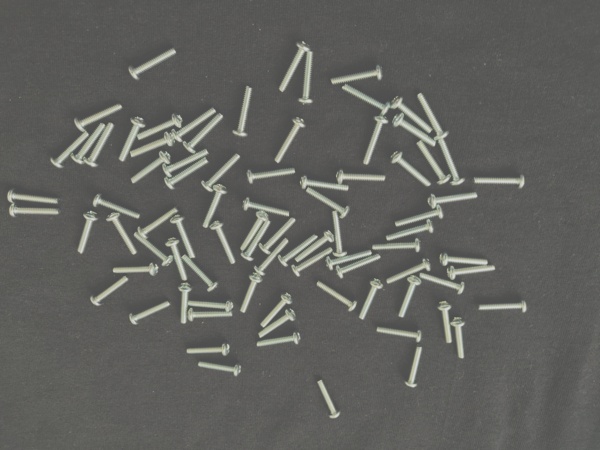longscrew: (278, 40, 312, 93), (183, 112, 225, 154), (390, 94, 434, 134), (128, 46, 178, 81), (171, 106, 218, 143), (416, 92, 450, 141), (200, 153, 241, 193), (390, 150, 433, 188), (340, 84, 391, 116), (416, 140, 452, 185), (391, 112, 437, 147), (50, 131, 91, 170), (273, 117, 307, 164), (164, 157, 210, 191), (83, 122, 117, 168), (181, 254, 220, 293), (305, 187, 351, 220), (71, 123, 106, 166), (437, 136, 467, 186), (74, 102, 124, 132), (258, 217, 297, 255), (253, 237, 290, 277), (133, 231, 174, 267), (130, 149, 172, 184), (278, 233, 319, 268), (361, 115, 389, 166), (137, 111, 184, 141), (106, 212, 138, 256), (294, 229, 335, 263), (162, 149, 210, 178), (316, 280, 358, 313), (138, 206, 180, 239), (118, 116, 148, 162), (92, 192, 141, 220), (291, 247, 335, 278), (241, 220, 272, 262), (259, 292, 294, 329), (239, 211, 270, 252), (169, 214, 197, 259), (258, 308, 297, 340), (330, 63, 384, 86), (387, 257, 432, 284), (202, 184, 229, 229), (210, 220, 237, 265), (130, 131, 175, 158), (91, 276, 130, 307), (395, 204, 445, 228), (335, 254, 382, 279), (129, 299, 172, 326), (418, 272, 466, 296), (242, 196, 292, 219), (358, 278, 385, 320), (164, 237, 189, 282), (75, 210, 100, 255), (233, 85, 254, 138), (386, 219, 434, 242), (398, 275, 422, 319), (325, 249, 372, 271), (317, 379, 342, 420), (428, 190, 479, 210), (246, 166, 297, 186), (298, 51, 316, 106), (240, 273, 264, 314), (7, 187, 61, 205), (472, 173, 526, 190), (375, 325, 423, 344), (446, 263, 496, 281), (300, 174, 350, 192), (404, 345, 424, 389), (256, 330, 302, 349), (336, 168, 387, 185), (372, 237, 422, 254), (331, 211, 349, 258), (197, 360, 243, 378), (8, 203, 62, 218), (440, 252, 490, 268), (113, 261, 160, 278), (450, 316, 467, 360), (177, 282, 194, 326), (188, 308, 234, 324), (186, 341, 231, 357), (437, 301, 453, 345), (188, 298, 234, 313), (478, 300, 528, 313)
